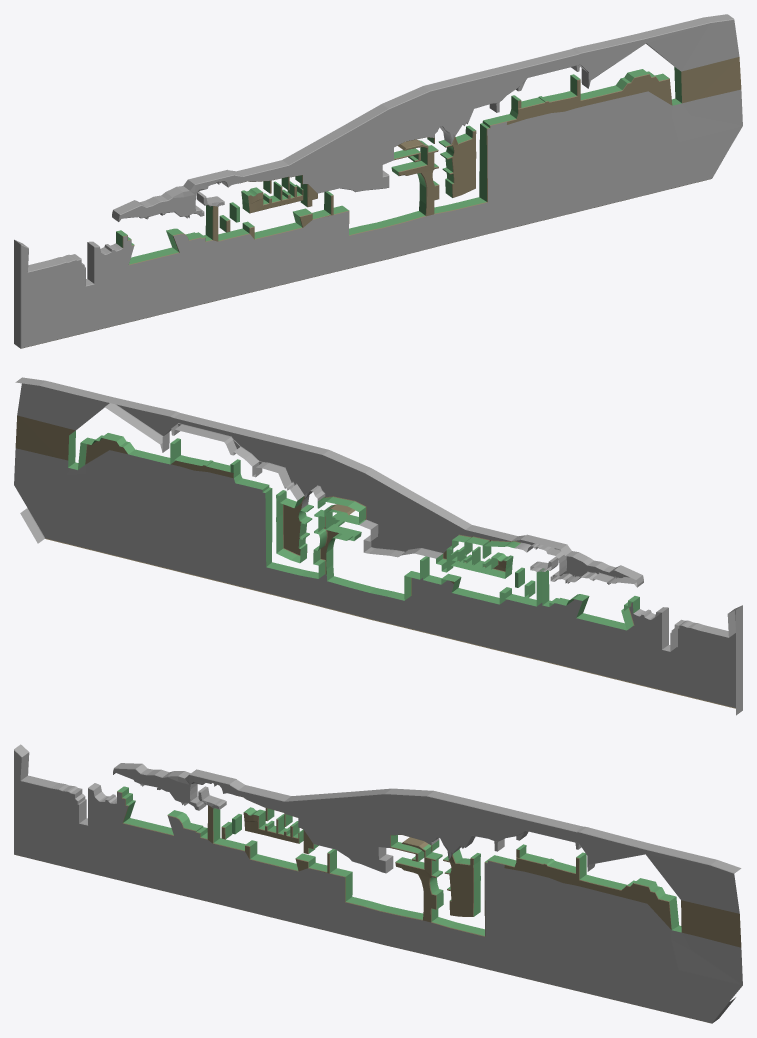
File: final_levelGreybox_02_mesh.fbx
3 renders of one model, top to bottom at view 1: azimuth 30°, elevation 25°; view 2: azimuth 150°, elevation 25°; view 3: azimuth 330°, elevation 25°, orthographic.
Parts seen in each view (by area): view 1: FinalLevel_Mesh4:FinalLevel_Greybox_Feb7:FinalLevel_Mesh2:Fi; view 2: FinalLevel_Mesh4:FinalLevel_Greybox_Feb7:FinalLevel_Mesh2:Fi; view 3: FinalLevel_Mesh4:FinalLevel_Greybox_Feb7:FinalLevel_Mesh2:Fi.
Boxes of the visible parts, x1,y1,x2,y2 form: FinalLevel_Mesh4:FinalLevel_Greybox_Feb7:FinalLevel_Mesh2:Fi: (14,14,742,348); FinalLevel_Mesh4:FinalLevel_Greybox_Feb7:FinalLevel_Mesh2:Fi: (14,377,742,715); FinalLevel_Mesh4:FinalLevel_Greybox_Feb7:FinalLevel_Mesh2:Fi: (14,744,742,1023).
Bounding box in the file's own units: 593 × 125 × 10.44.
